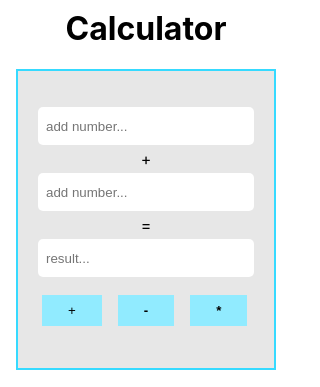
Test: Calculator functionalities › Multiplication of two numbers
Type "5" into the 1st number field with placeholder "add number..." at (146, 126), box [38, 107, 254, 145]
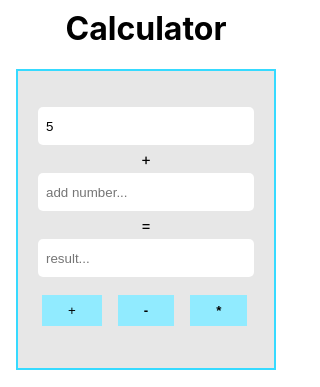
Type "3" into the number field with placeholder "add number..." at (146, 192), box [38, 173, 254, 211]
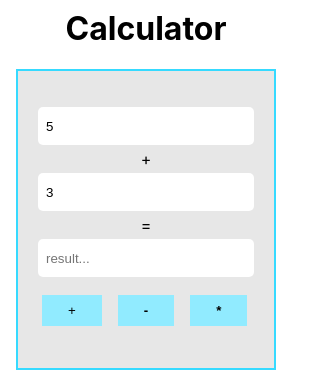
Click the button "*" at (219, 311), box [190, 295, 248, 326]
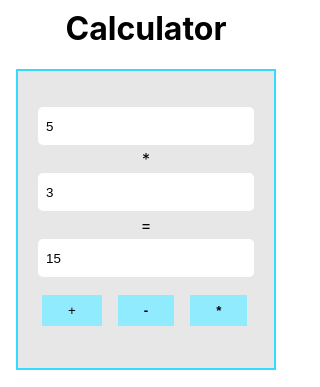
Expected: the field with test id "result" holds "15", [38, 239, 254, 277]
